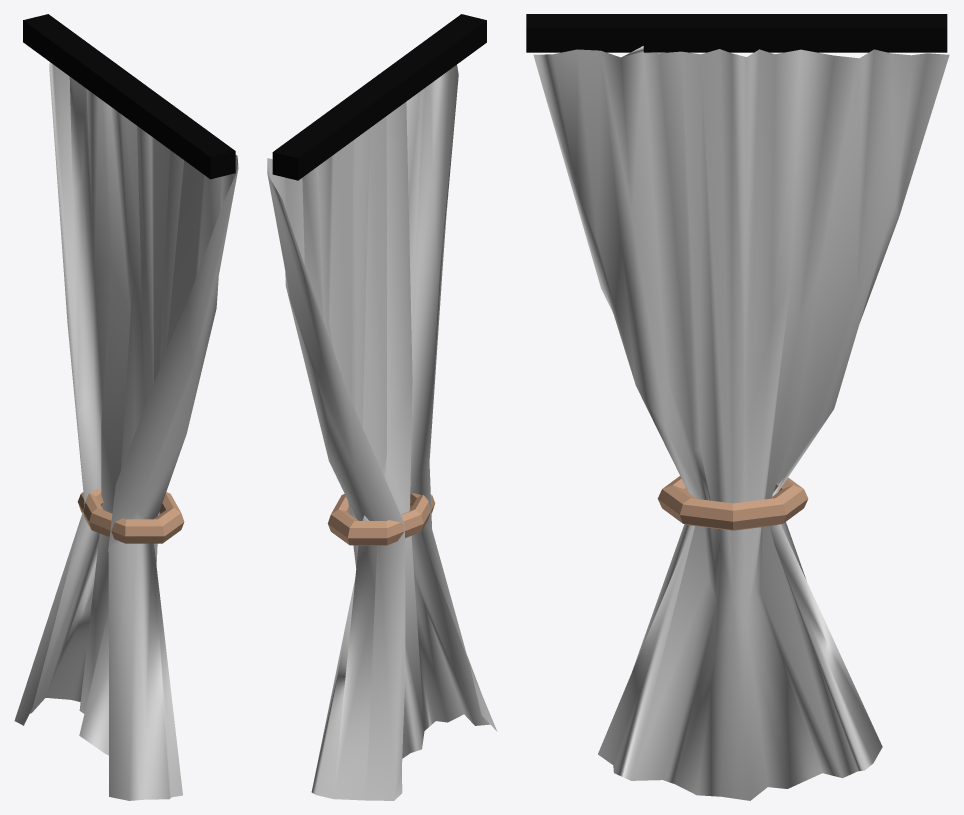
Rendered from CortinaSen.fbx.
3 renders of one model, left to right at view 1: azimuth 30°, elevation 25°; view 2: azimuth 150°, elevation 25°; view 3: azimuth 270°, elevation 25°, orthographic. The views are drawn at different scales.
Visible parts, largest first — view 1: CortinaSen; view 2: CortinaSen; view 3: CortinaSen.
Part boxes in pixels (x1,y1,x2,y2): CortinaSen: (14, 14, 238, 800); CortinaSen: (267, 14, 497, 800); CortinaSen: (526, 14, 949, 800).
Size of the model in its own units: 68.21 by 406 by 201.
